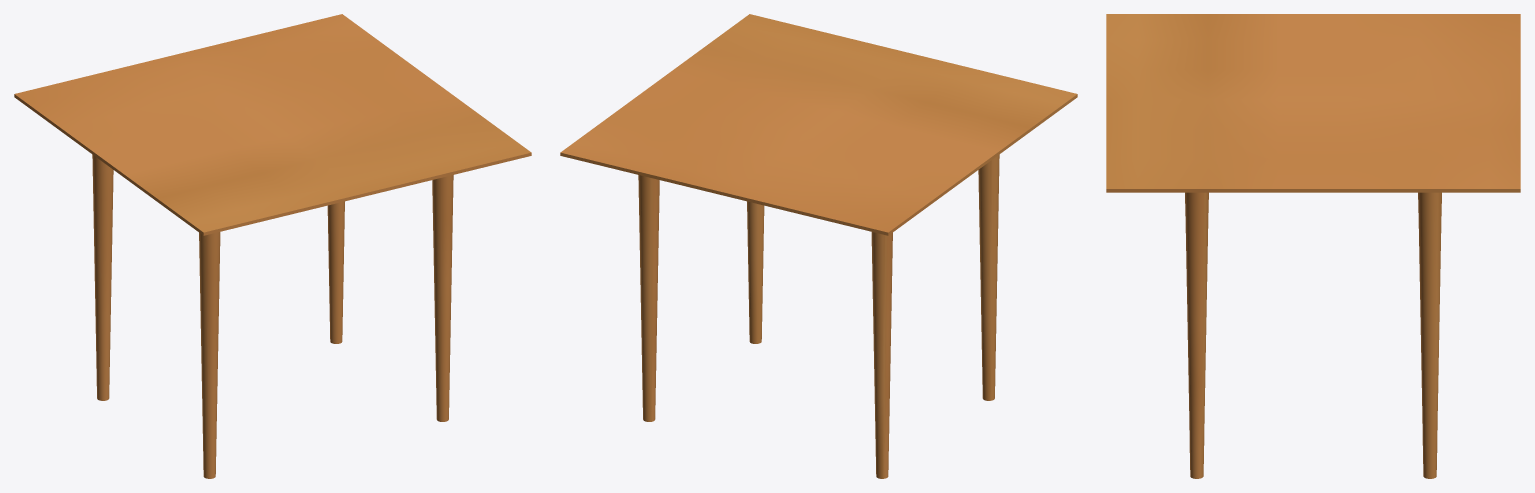
The model's file is galds.glb.
3 renders of one model, left to right at view 1: azimuth 30°, elevation 25°; view 2: azimuth 150°, elevation 25°; view 3: azimuth 270°, elevation 25°, orthographic. The views are drawn at different scales.
Visible parts, largest first — view 1: desk; view 2: desk; view 3: desk.
Part boxes in pixels (x1,y1,x2,y2): desk: [14, 14, 531, 478]; desk: [560, 14, 1077, 478]; desk: [1106, 14, 1520, 478].
Bounding box in the file's own units: 0.00123 × 0.00102 × 0.00123.
Materials: 1 (1 with a texture image).
